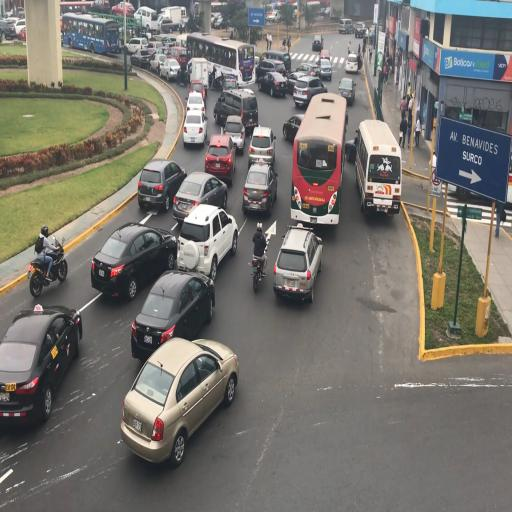auto: (120, 335, 238, 466), (1, 304, 82, 428), (130, 269, 216, 359), (92, 222, 178, 302), (176, 202, 236, 280), (273, 224, 321, 304), (172, 172, 226, 225), (137, 159, 187, 213), (213, 86, 254, 134), (242, 160, 276, 216), (204, 132, 238, 181), (248, 124, 275, 167), (182, 103, 207, 148), (293, 76, 327, 108), (257, 70, 287, 98), (132, 4, 160, 32), (157, 56, 181, 82), (282, 114, 303, 142), (130, 47, 156, 69), (166, 44, 188, 68), (337, 77, 355, 105), (292, 63, 318, 80), (0, 16, 18, 39), (126, 37, 150, 54), (151, 35, 175, 52), (150, 53, 166, 74), (344, 53, 358, 75), (317, 50, 331, 68), (115, 0, 134, 13), (312, 34, 324, 51), (354, 22, 366, 38), (212, 16, 222, 29)
bus: (258, 49, 292, 81), (187, 57, 210, 96)
camion: (28, 236, 68, 297), (250, 234, 270, 292)
moto: (292, 92, 347, 226), (354, 116, 400, 218), (188, 33, 253, 88), (63, 13, 121, 56), (160, 6, 186, 32), (62, 0, 101, 15), (338, 18, 354, 34)
